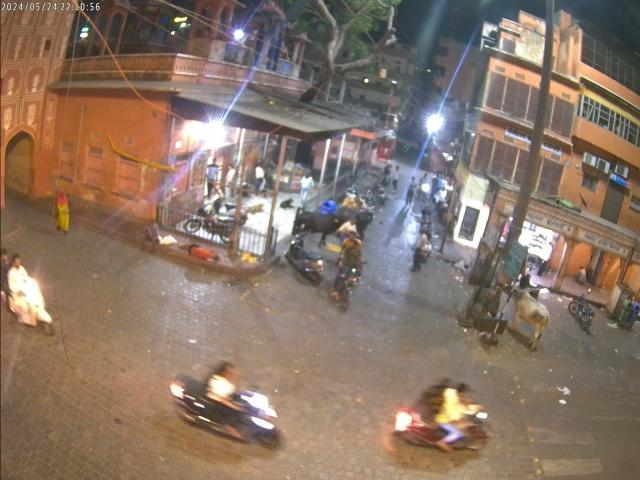cattle: (512, 284, 552, 350)
motorbike-rider: (332, 239, 362, 310)
no_helmet: (452, 378, 472, 399), (218, 360, 237, 378), (10, 253, 19, 272)
scooty: (288, 227, 325, 283)
scooty-rider: (378, 377, 491, 476), (168, 358, 284, 451), (0, 244, 55, 336)
